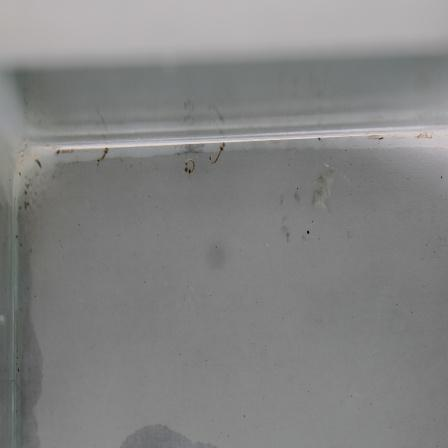Jentik-Nyamuk: (207, 139, 229, 169), (179, 155, 197, 177)
